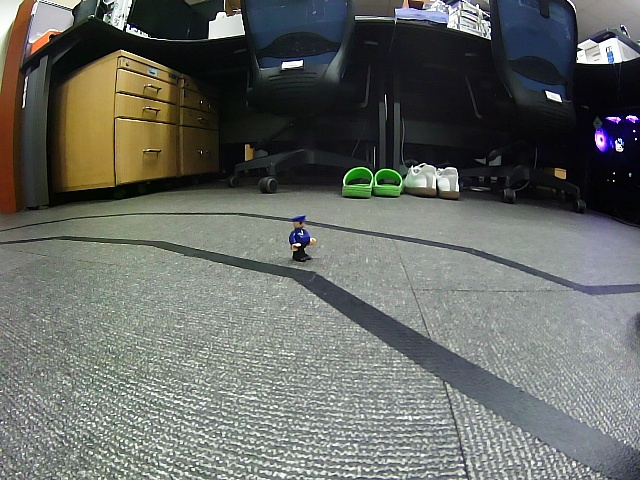person: (288, 215, 316, 264)
